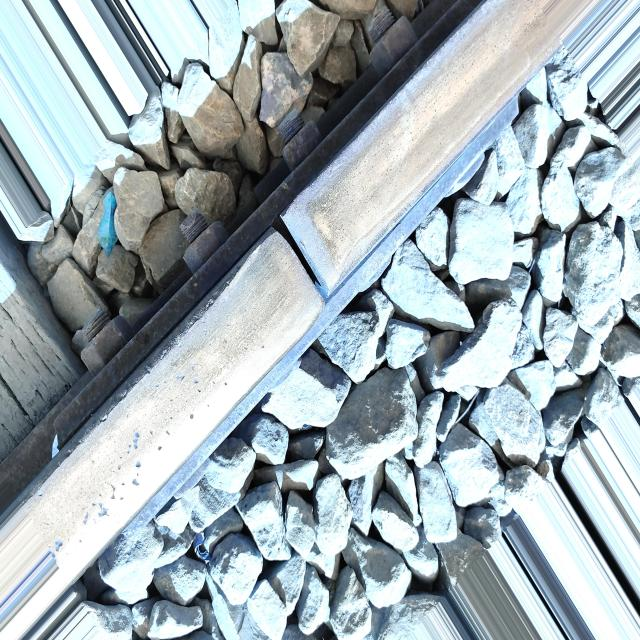crack: (254, 208, 344, 324)
